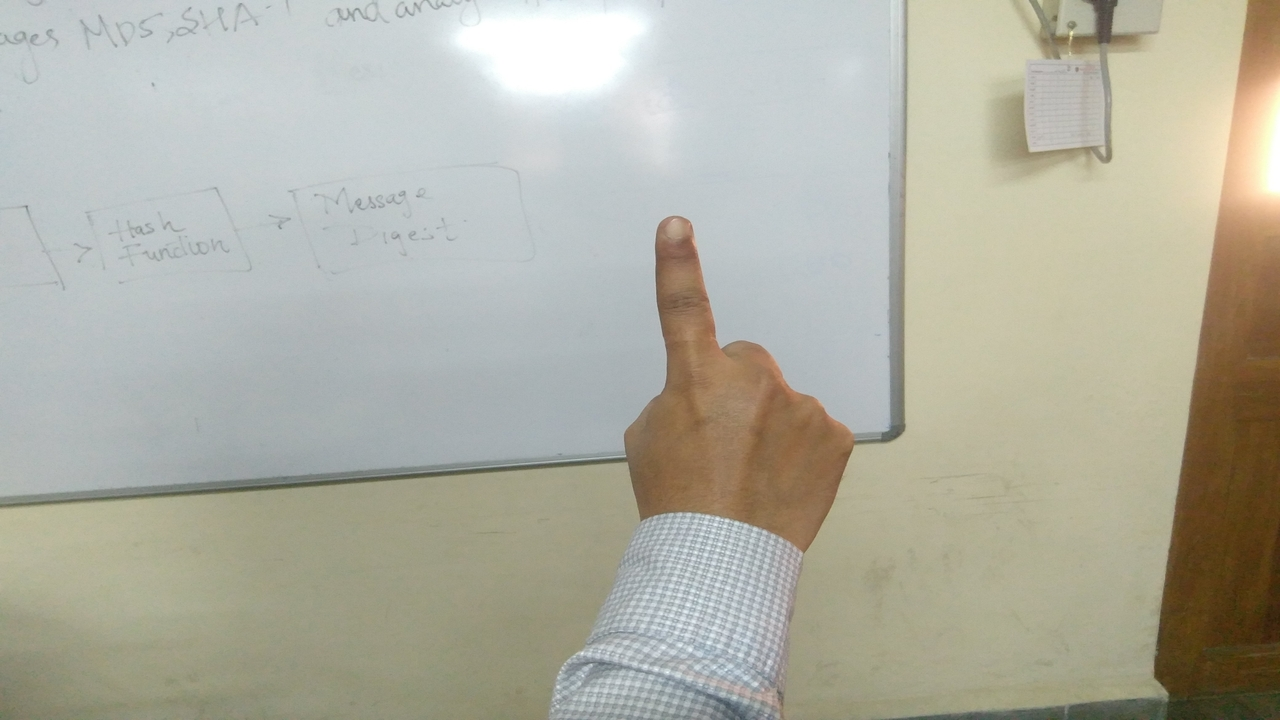fingertip: (650, 204, 706, 256)
